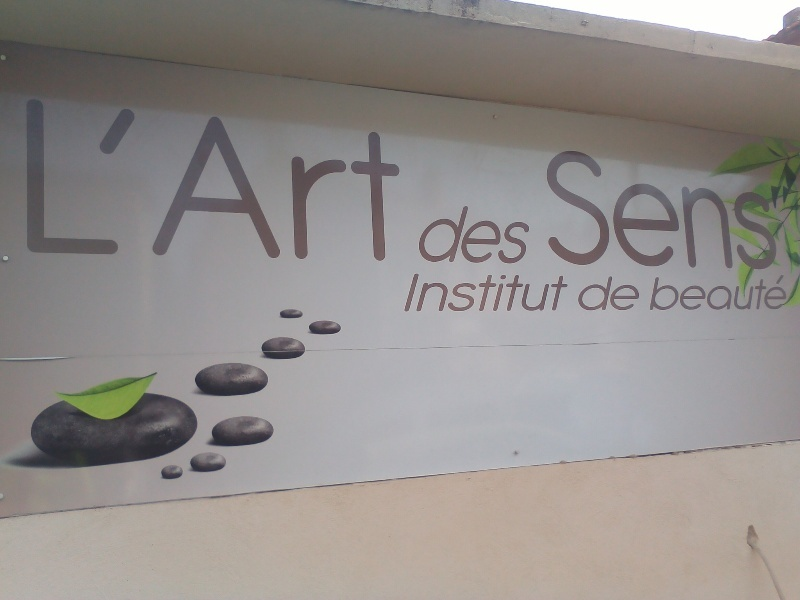text: (33, 93, 48, 262), (49, 93, 64, 262), (65, 93, 80, 262), (81, 93, 96, 262), (97, 93, 112, 262), (113, 93, 128, 262), (129, 93, 144, 262), (145, 93, 160, 262), (161, 93, 176, 262), (177, 93, 192, 262), (193, 93, 208, 262), (209, 93, 224, 262), (225, 93, 240, 262), (241, 93, 256, 262), (257, 93, 272, 262), (273, 93, 288, 262), (289, 93, 304, 262), (305, 93, 320, 262), (321, 93, 336, 262), (337, 93, 352, 262), (353, 93, 368, 262), (369, 93, 384, 262), (385, 93, 400, 262), (545, 146, 560, 272), (561, 146, 576, 272), (577, 146, 592, 272), (593, 146, 608, 272), (609, 146, 624, 272), (625, 146, 640, 272), (641, 146, 656, 272), (657, 146, 672, 272), (673, 146, 688, 272), (689, 146, 704, 272), (705, 146, 720, 272), (721, 146, 736, 272), (737, 146, 752, 272), (753, 146, 768, 272), (22, 93, 32, 262), (769, 146, 780, 272), (433, 204, 448, 266), (449, 204, 464, 266), (465, 204, 480, 266), (481, 204, 496, 266), (497, 204, 512, 266), (513, 204, 528, 266), (417, 272, 432, 314), (433, 272, 448, 314), (449, 272, 464, 314), (465, 272, 480, 314), (481, 272, 496, 314), (497, 272, 512, 314), (513, 272, 528, 314), (529, 272, 544, 314), (545, 272, 560, 314), (539, 146, 544, 272), (422, 204, 432, 266), (625, 275, 641, 312), (657, 274, 672, 312), (673, 274, 688, 312), (689, 274, 704, 312), (705, 274, 720, 312), (721, 274, 736, 312), (737, 274, 752, 312), (753, 274, 768, 312), (769, 274, 784, 312), (577, 275, 592, 312), (593, 275, 608, 312), (609, 275, 624, 312), (401, 93, 404, 262), (561, 272, 571, 314), (529, 204, 535, 266), (412, 272, 416, 314), (785, 274, 789, 312), (655, 274, 656, 312)
